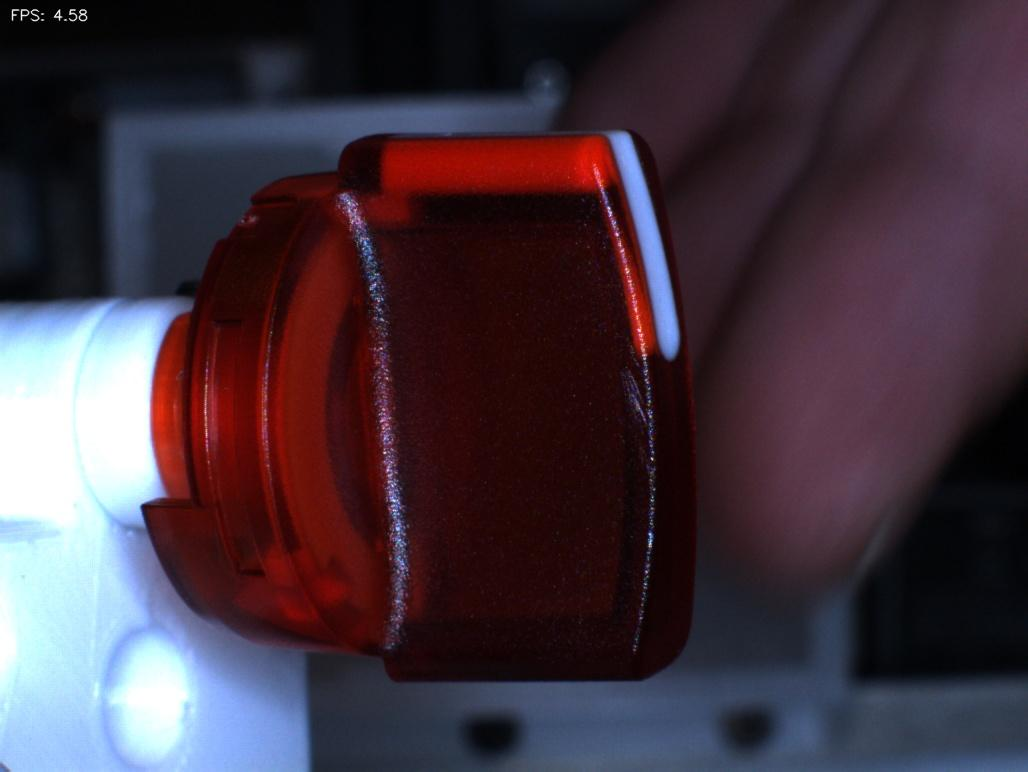Givrage: (593, 336, 659, 468)
